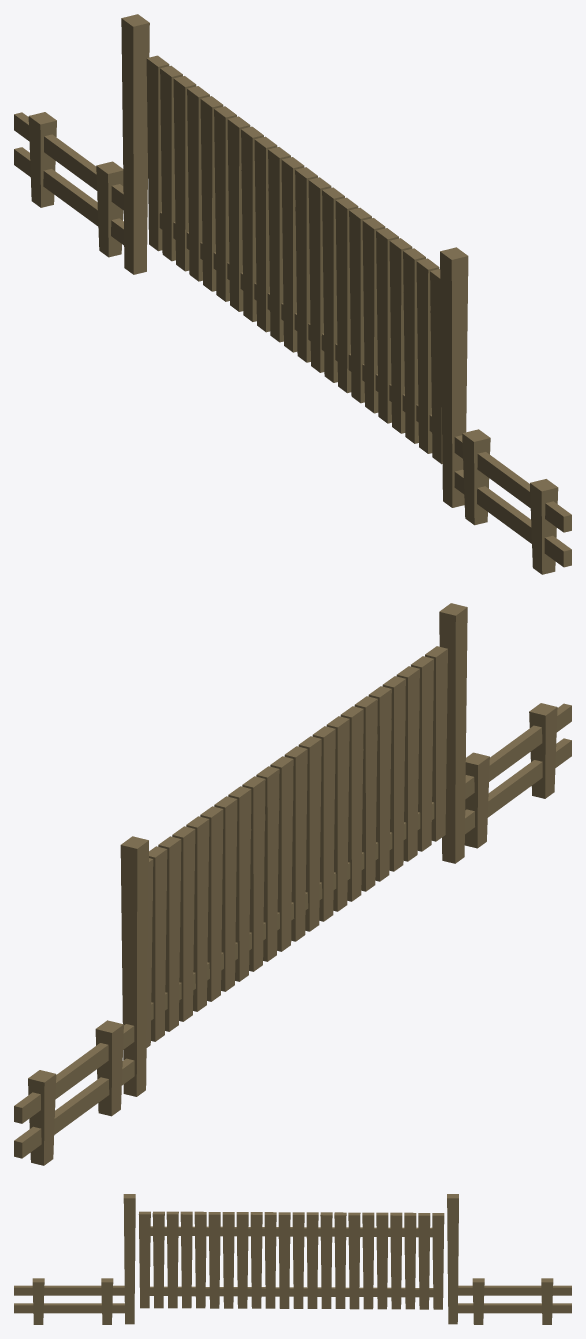
File: gateopens.fbx
3 renders of one model, top to bottom at view 1: azimuth 30°, elevation 25°; view 2: azimuth 150°, elevation 25°; view 3: azimuth 270°, elevation 25°, orthographic. The views are drawn at different scales.
Visible parts, largest first — view 1: polySurface54, polySurface6, polySurface5, polySurface3, polySurface1, polySurface2, polySurface4; view 2: polySurface54, polySurface6, polySurface5, polySurface2, polySurface3, polySurface1, polySurface4; view 3: polySurface54, polySurface6, polySurface5, polySurface3, polySurface1, polySurface2, polySurface4.
Part boxes in pixels (x1,y1,x2,y2): polySurface54: (146, 55, 442, 464); polySurface6: (14, 14, 149, 274); polySurface5: (440, 247, 468, 507); polySurface3: (454, 469, 571, 567); polySurface1: (454, 435, 571, 532); polySurface2: (530, 479, 558, 574); polySurface4: (462, 429, 490, 525); polySurface54: (146, 646, 447, 1047); polySurface6: (14, 836, 148, 1165); polySurface5: (439, 603, 467, 863); polySurface2: (529, 703, 557, 798); polySurface3: (465, 738, 571, 834); polySurface1: (465, 703, 571, 799); polySurface4: (464, 752, 489, 848); polySurface54: (138, 1211, 444, 1309); polySurface6: (447, 1194, 571, 1324); polySurface5: (123, 1194, 135, 1324); polySurface3: (14, 1303, 124, 1313); polySurface1: (14, 1285, 124, 1295); polySurface2: (32, 1278, 44, 1324); polySurface4: (101, 1278, 113, 1324).
Size of the model in its own units: 4.82 by 52.86 by 210.
